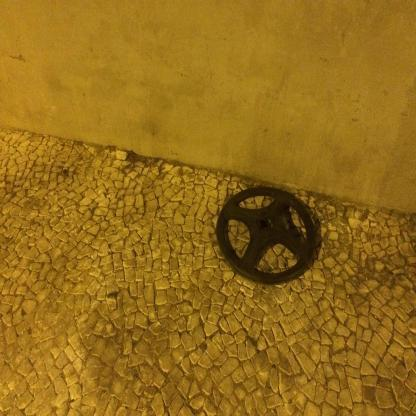diger: (217, 187, 318, 286)
